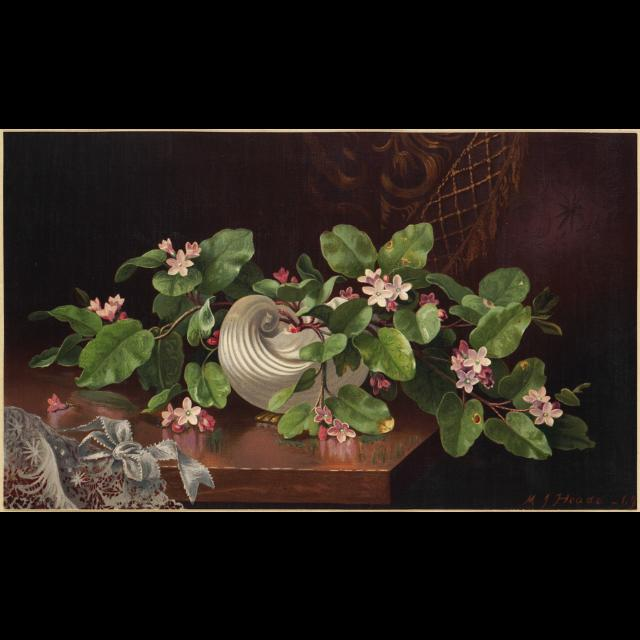Flower: (361, 278, 391, 308), (532, 397, 562, 425), (164, 251, 194, 277), (327, 416, 357, 442), (384, 276, 412, 302), (174, 396, 198, 426), (464, 348, 490, 372), (446, 350, 469, 376), (158, 404, 182, 428), (457, 367, 477, 393), (184, 238, 206, 260), (358, 266, 382, 286), (49, 393, 70, 415), (316, 403, 334, 427), (415, 291, 439, 309), (525, 383, 549, 401), (95, 300, 113, 320), (270, 266, 290, 284), (104, 293, 125, 307), (161, 238, 177, 254), (202, 408, 214, 429), (337, 286, 358, 298), (85, 296, 101, 310)
